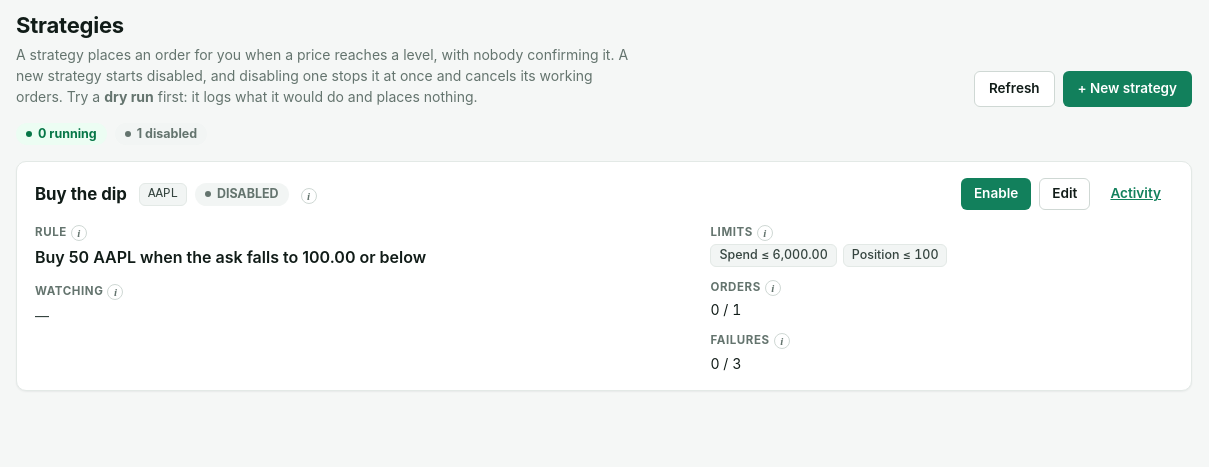
Test: StrategiesComponent › the list › shows the strategy service sentence when an action is refused
Click the button "Enable".
click(996, 194)  # box [961, 178, 1031, 210]
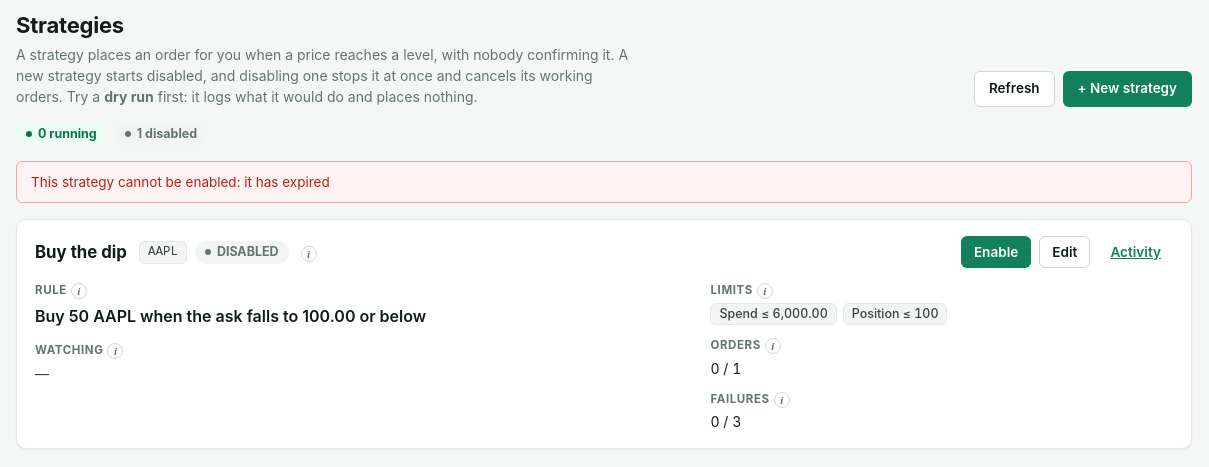
Result: the text "This strategy cannot be enabled: it has expired" is shown at [16, 161, 1192, 204]
